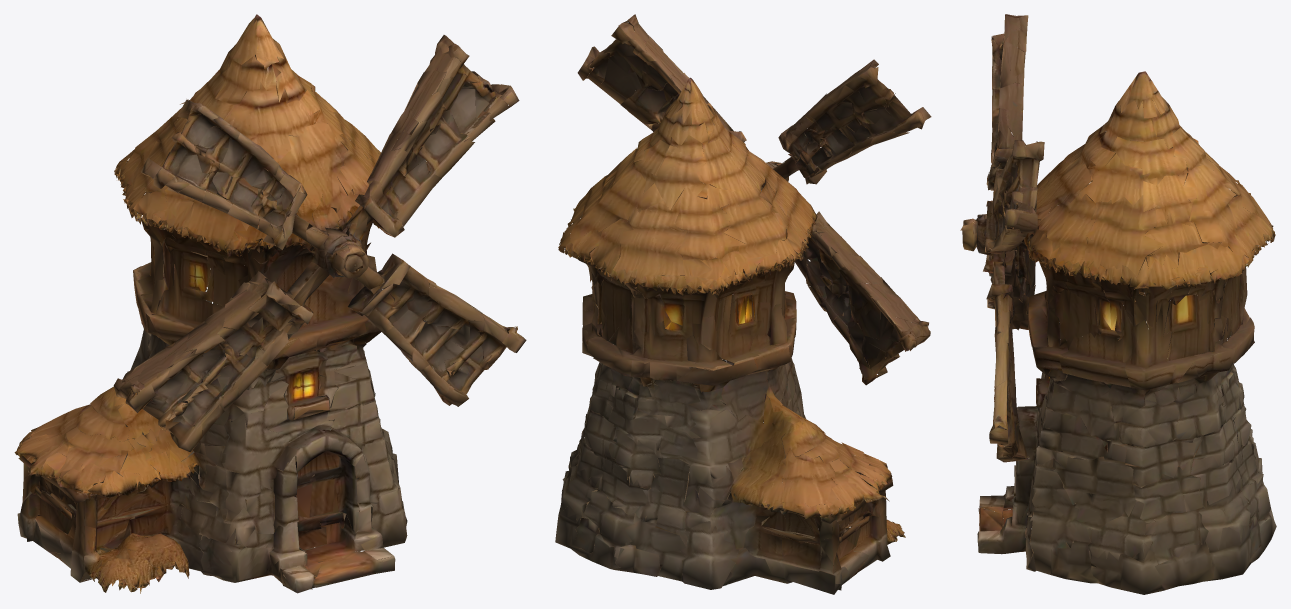
Rendered from Windmill_Haven_town.glb.
3 views of the same model, side by side, from view 1: azimuth 30°, elevation 25°; view 2: azimuth 150°, elevation 25°; view 3: azimuth 270°, elevation 25° (orthographic). The views are drawn at different scales.
Parts seen in each view (by area): view 1: Windmill_Haven; view 2: Windmill_Haven; view 3: Windmill_Haven.
Boxes of the visible parts, <box> form: Windmill_Haven: <box>14,14,526,593</box>; Windmill_Haven: <box>555,14,931,594</box>; Windmill_Haven: <box>960,14,1276,594</box>.
Size of the model in its own units: 1.73 by 2.01 by 1.25.
Materials: 1 (1 with a texture image).
